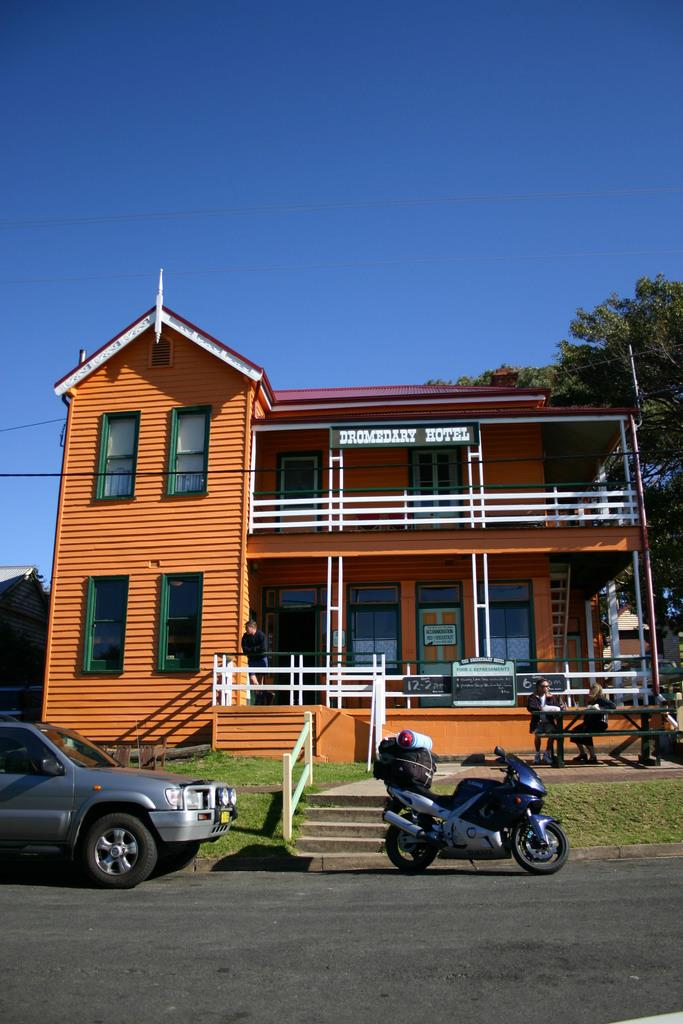Motorcycle: (385, 755, 573, 880)
